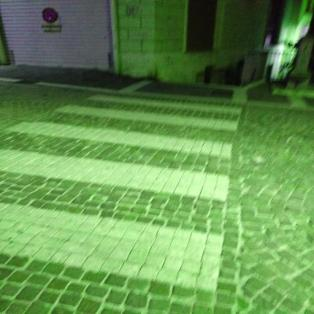Paso de Cebra: (4, 102, 249, 161)
